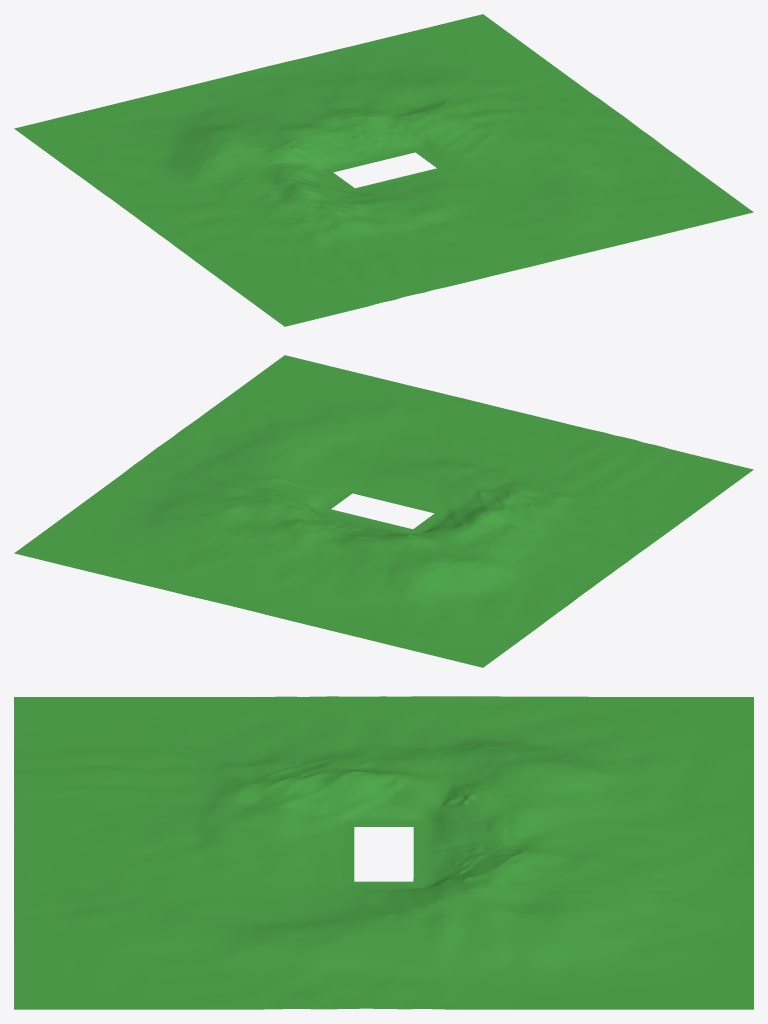
Rendered from Terrain_T02.glb.
3 renders of one model, top to bottom at view 1: azimuth 30°, elevation 25°; view 2: azimuth 150°, elevation 25°; view 3: azimuth 270°, elevation 25°, orthographic. The views are drawn at different scales.
Visible parts, largest first — view 1: pPlane4; view 2: pPlane4; view 3: pPlane4.
Boxes of the visible parts, x1,y1,x2,y2 form: pPlane4: (14,14,753,326); pPlane4: (14,355,753,667); pPlane4: (14,696,753,1009).
Bounding box in the file's own units: 600 × 17.53 × 600.
